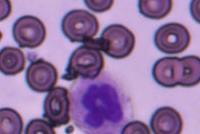N: (67, 70, 134, 134)
